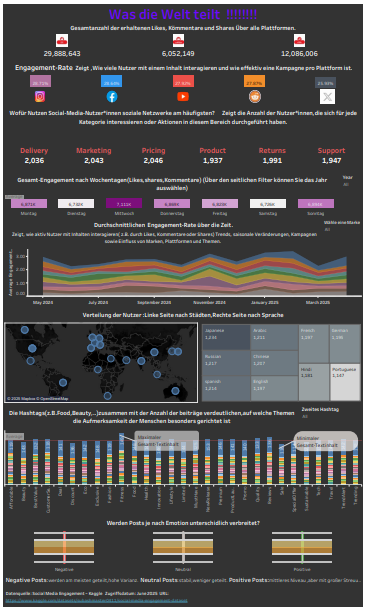

Layout of this report page (visuals, bound fields, positions):
{"tool":"tableau","page":{"name":"Main Dashboard","canvas":[1020,1800],"ordinal":0},"visuals":[{"type":"title","box":[8,8,1004,72]},{"type":"text","box":[8,80,1004,32]},{"type":"image","param":"Image/Like.jpeg","box":[8,112,328.4,44.8]},{"type":"image","param":"Image/comment1.jpeg","box":[336.4,112,321.5,44.8]},{"type":"image","param":"Image/Share.jpeg","box":[657.8,112,354.2,44.8]},{"type":"worksheet","title":"Like","mark":"Automatic","box":[8,156.8,328.7,34.4]},{"type":"worksheet","title":"Comment","mark":"Automatic","box":[336.7,156.8,321.3,34.4]},{"type":"worksheet","title":"Share","mark":"Automatic","box":[658,156.8,354,34.4]},{"type":"worksheet","title":"Platform","mark":"Bar","rows":["engagement_rate"],"cols":["platform"],"box":[8,191.2,1004,137.4]},{"type":"image","param":"Image/Instagram.png","box":[8,328.7,205.4,39.1]},{"type":"image","param":"Image/Facebook.png","box":[213.4,328.7,196.6,39.1]},{"type":"image","param":"Image/youtube.png","box":[410,328.7,197.1,39.1]},{"type":"image","param":"Image/Reddit.png","box":[607.1,328.7,206.4,39.1]},{"type":"image","param":"Image/X2.jpeg","box":[813.5,328.7,198.5,39.1]},{"type":"text","box":[8,367.8,1004,91.5]},{"type":"worksheet","title":"KPI-Using Social Media","mark":"Automatic","cols":["topic_category"],"box":[8,459.3,1004,117.7]},{"type":"worksheet","title":"weekday","mark":"Automatic","rows":["Calculation_186617955085561867"],"cols":["day_of_week"],"box":[8,577,943.1,166.5]},{"type":"filter","title":"weekday","param":"[federated.00w22cp04i209j12sh5eh1aul82e].[yr:timestamp:ok]","box":[951.1,577,60.9,166.5]},{"type":"text","box":[8,743.5,864,90.9]},{"type":"filter","title":"Engagement-Rate (2)","param":"[federated.00w22cp04i209j12sh5eh1aul82e].[none:brand_name:nk]","box":[872,743.5,140,90.9]},{"type":"worksheet","title":"Engagement-Rate (2)","mark":"Area","rows":["engagement_rate"],"cols":["timestamp"],"box":[8,834.4,1004,203.8]},{"type":"text","box":[8,1038.2,1004,37]},{"type":"worksheet","title":"Map","mark":"Automatic","box":[8,1075.2,511,191.9]},{"type":"worksheet","title":"Language","mark":"Automatic","box":[519,1075.2,493,191.9]},{"type":"text","box":[8,1267.1,828.6,66.2]},{"type":"filter","title":"Hashtags","param":"[federated.00w22cp04i209j12sh5eh1aul82e].[none:hashtags - Split 2:nk]","box":[836.6,1267.1,175.4,66.2]},{"type":"worksheet","title":"Hashtags","mark":"Automatic","rows":["text_content"],"cols":["hashtags - Split 1"],"box":[8,1333.3,1004,237]},{"type":"worksheet","title":"sentimental-share","mark":"Circle","rows":["shares_count"],"cols":["sentiment_label"],"box":[8,1570.3,1004,136.3]},{"type":"text","box":[8,1706.6,1004,30.7]},{"type":"text","box":[8,1737.3,1004,54.7]}]}

Visuals, with their boxes in screenshot pixels (x1, y1, x2, y2):
title: bbox(1, 0, 363, 2)
text: bbox(1, 2, 363, 13)
image: bbox(1, 13, 119, 29)
image: bbox(119, 13, 235, 29)
image: bbox(235, 13, 363, 29)
"Like" worksheet: bbox(1, 29, 120, 42)
"Comment" worksheet: bbox(120, 29, 235, 42)
"Share" worksheet: bbox(235, 29, 363, 42)
"Platform" worksheet (Bar marks): bbox(1, 42, 363, 91)
image: bbox(1, 91, 75, 105)
image: bbox(75, 91, 146, 105)
image: bbox(146, 91, 217, 105)
image: bbox(217, 91, 291, 105)
image: bbox(291, 91, 363, 105)
text: bbox(1, 105, 363, 138)
"KPI-Using Social Media" worksheet: bbox(1, 138, 363, 181)
"weekday" worksheet: bbox(1, 181, 341, 240)
"weekday" filter: bbox(341, 181, 363, 240)
text: bbox(1, 240, 312, 273)
"Engagement-Rate (2)" filter: bbox(312, 240, 363, 273)
"Engagement-Rate (2)" worksheet (Area marks): bbox(1, 273, 363, 347)
text: bbox(1, 347, 363, 360)
"Map" worksheet: bbox(1, 360, 185, 429)
"Language" worksheet: bbox(185, 360, 363, 429)
text: bbox(1, 429, 299, 453)
"Hashtags" filter: bbox(299, 429, 363, 453)
"Hashtags" worksheet: bbox(1, 453, 363, 538)
"sentimental-share" worksheet (Circle marks): bbox(1, 538, 363, 587)
text: bbox(1, 587, 363, 598)
text: bbox(1, 598, 363, 610)
